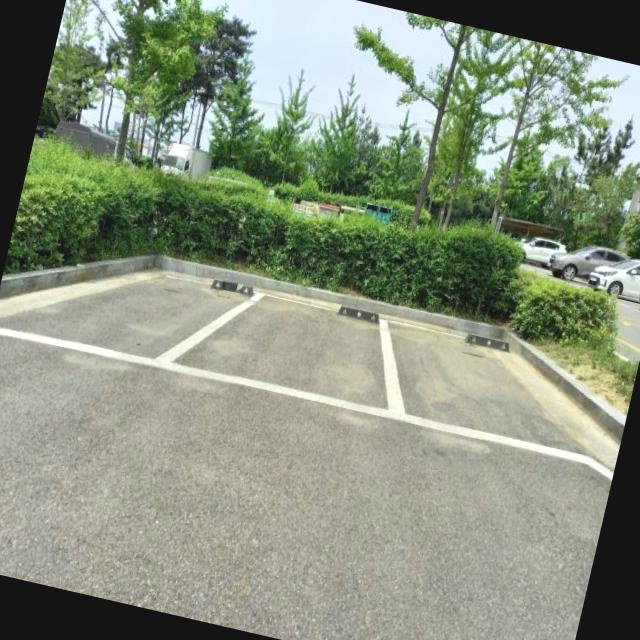free: (371, 304, 595, 458), (18, 228, 246, 378), (234, 282, 398, 418)
